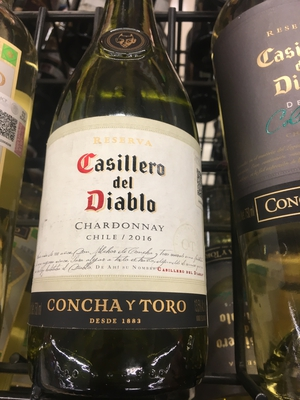casillero del diablo chardonnay: (28, 9, 206, 399)
